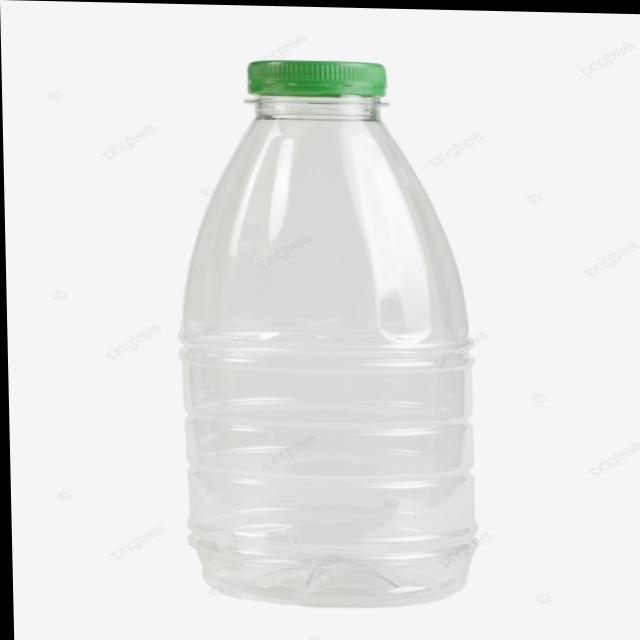bottle: (168, 54, 478, 609)
